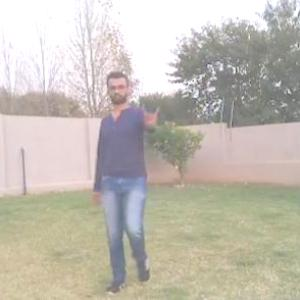takeoff-hand: (142, 96, 167, 133)
